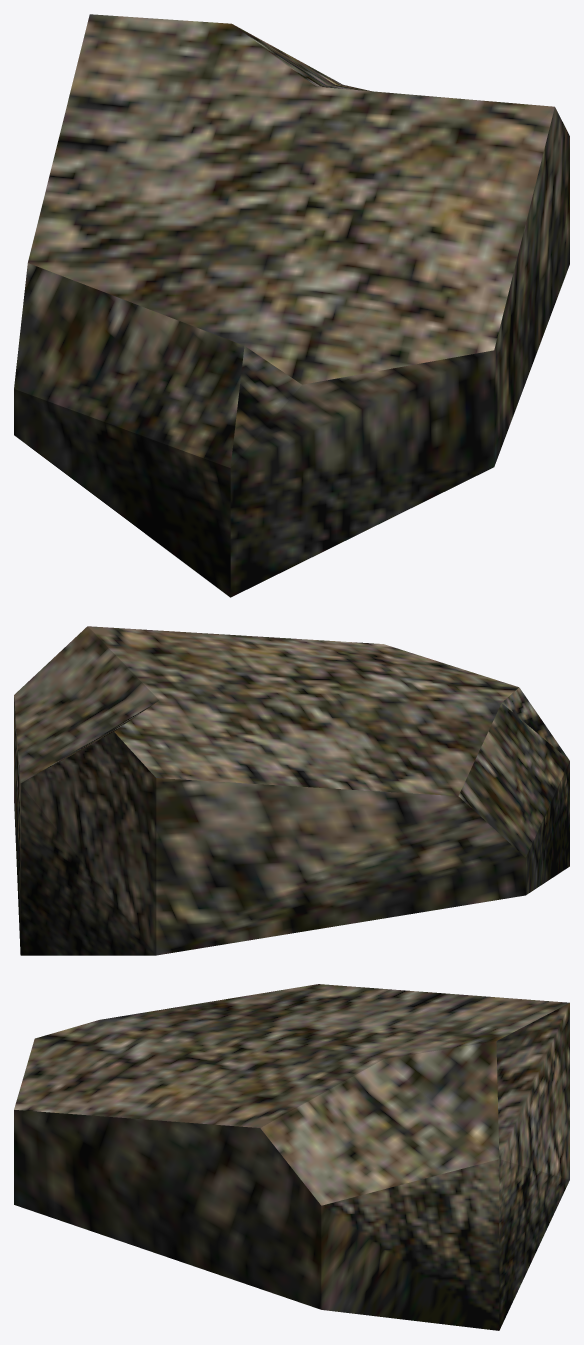
Rendered from rock_1.fbx.
3 renders of one model, top to bottom at view 1: azimuth 30°, elevation 25°; view 2: azimuth 150°, elevation 25°; view 3: azimuth 270°, elevation 25°, orthographic. The views are drawn at different scales.
Visible parts, largest first — view 1: rock1; view 2: rock1; view 3: rock1.
Boxes of the visible parts, <box> form: rock1: <box>14,14,569,597</box>; rock1: <box>14,626,569,955</box>; rock1: <box>14,984,569,1330</box>.
Bounding box in the file's own units: 281 × 137 × 281.
